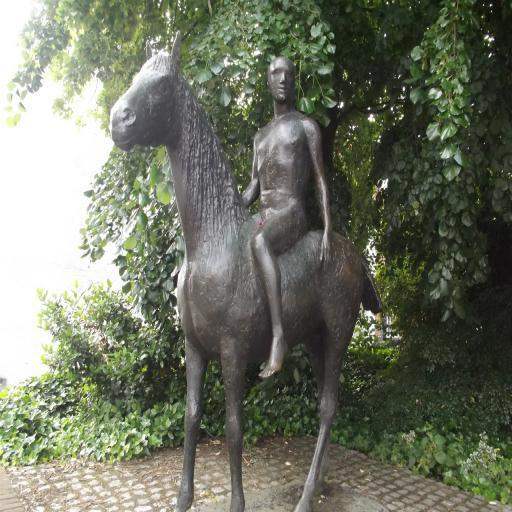horse: (108, 28, 385, 512)
